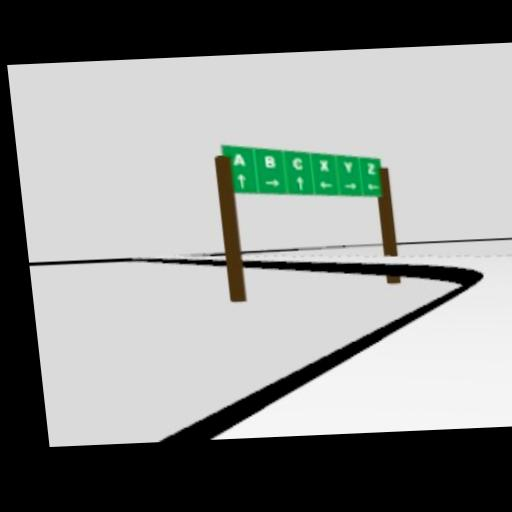A: (231, 153, 245, 166)
B: (262, 155, 276, 167)
C: (290, 157, 303, 170)
Left: (317, 179, 333, 188), (366, 182, 379, 191)
Right: (264, 179, 280, 187), (342, 181, 356, 190)
Straight: (234, 174, 246, 189), (295, 175, 304, 190)
X: (318, 159, 330, 172)
Y: (341, 160, 353, 173)
Z: (366, 162, 375, 175)
